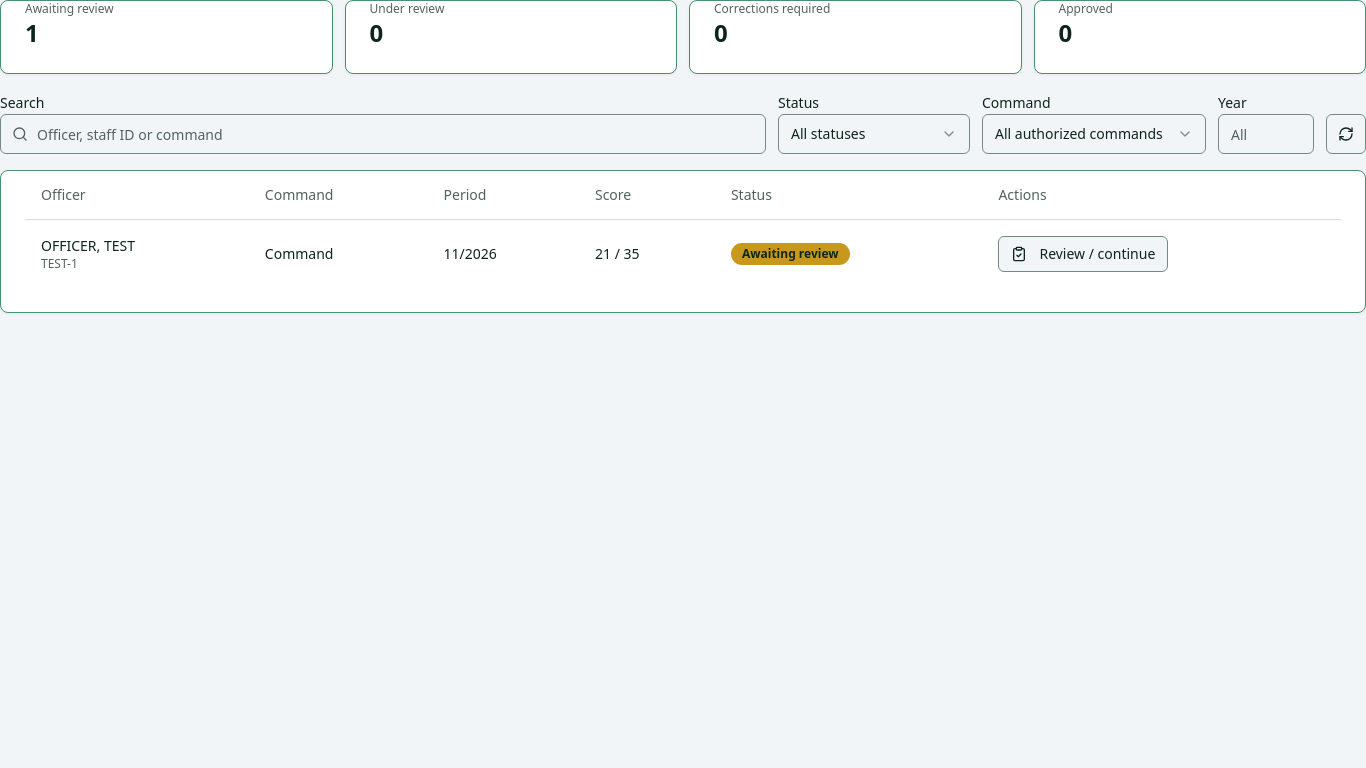
Test: appraisal queue decisions › confirms a review and reads the updated status back into the queue
What coordinates should you click on to do the following:
click the button "Review / continue"
I would click on:
 (1083, 254)
Its box is [998, 236, 1168, 272].
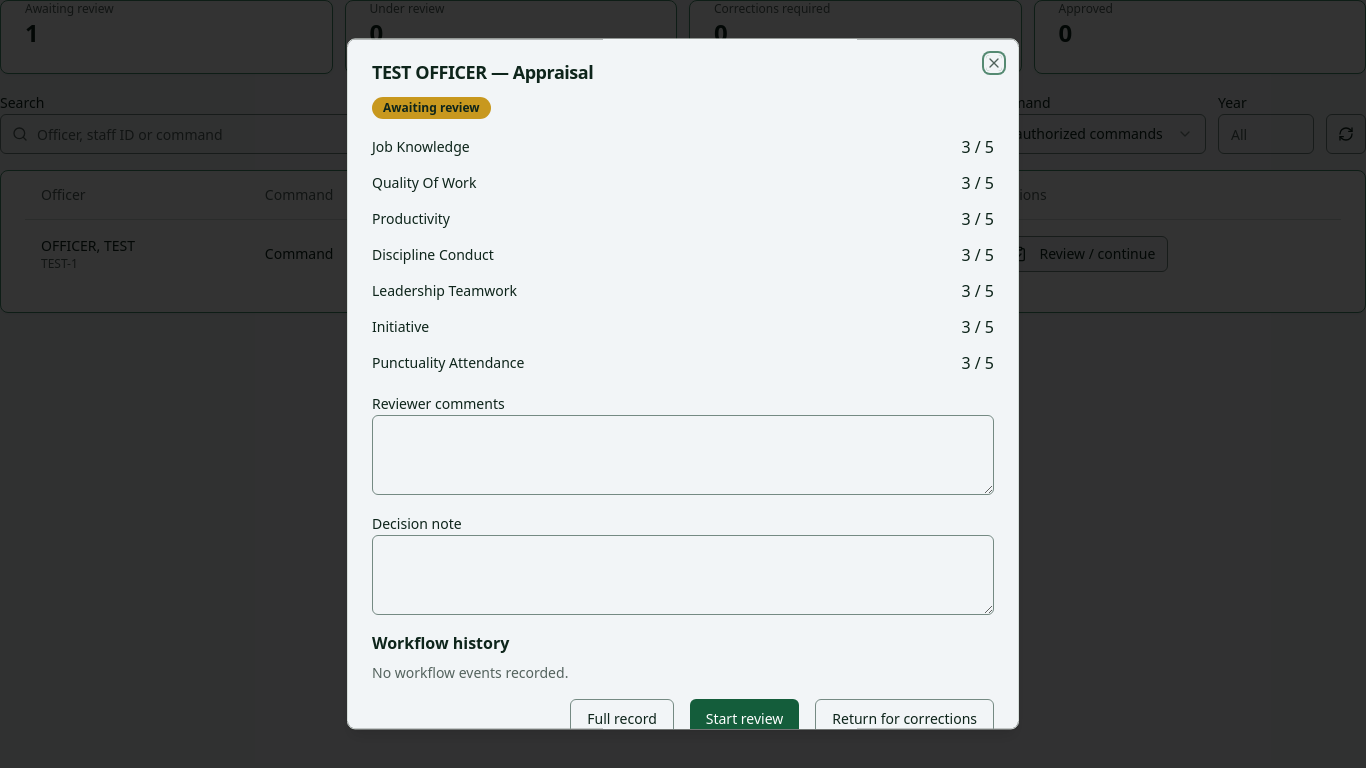
What coordinates should you click on to do the following:
click the button "Start review"
I would click on:
 (745, 719)
Its box is [690, 699, 799, 739].
(page scrolled)
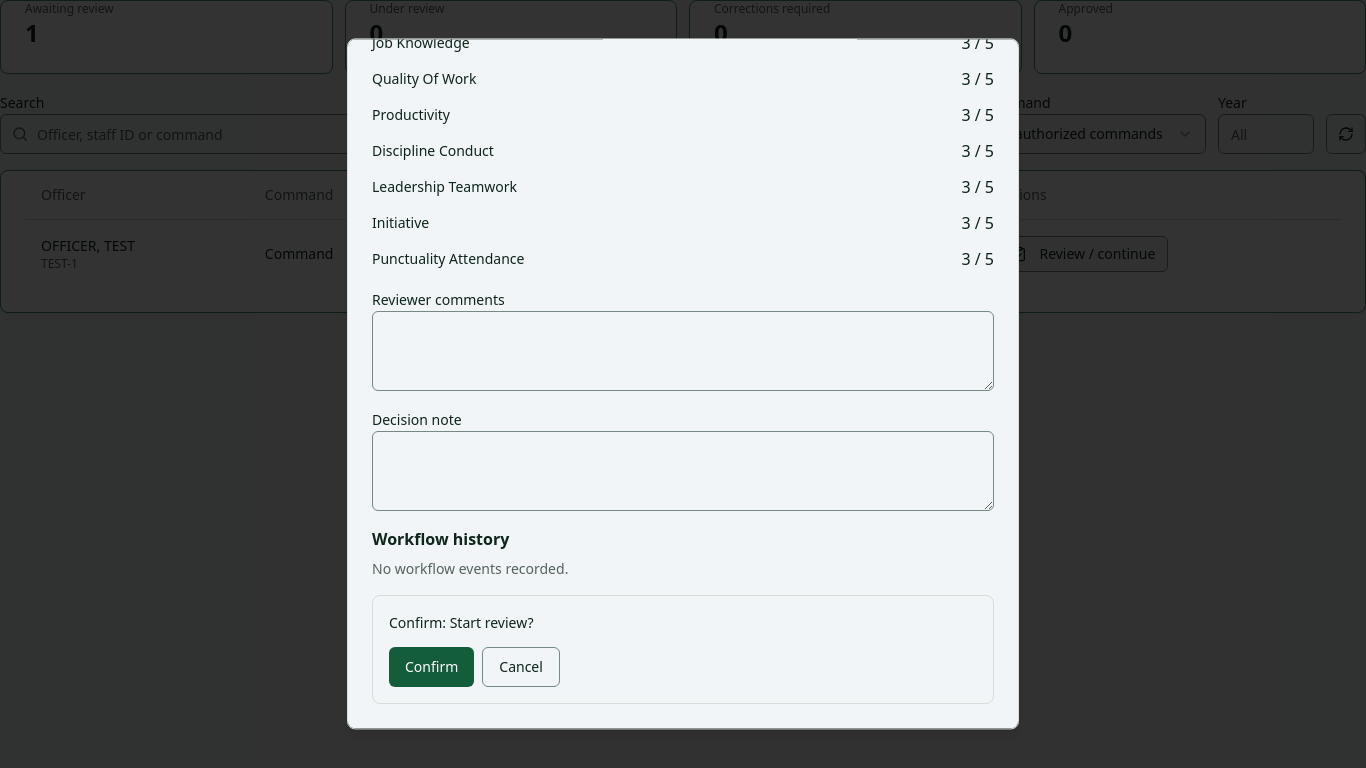
What coordinates should you click on to do the following:
click the button "Confirm"
I would click on:
 (432, 667)
Its box is [389, 647, 474, 687].
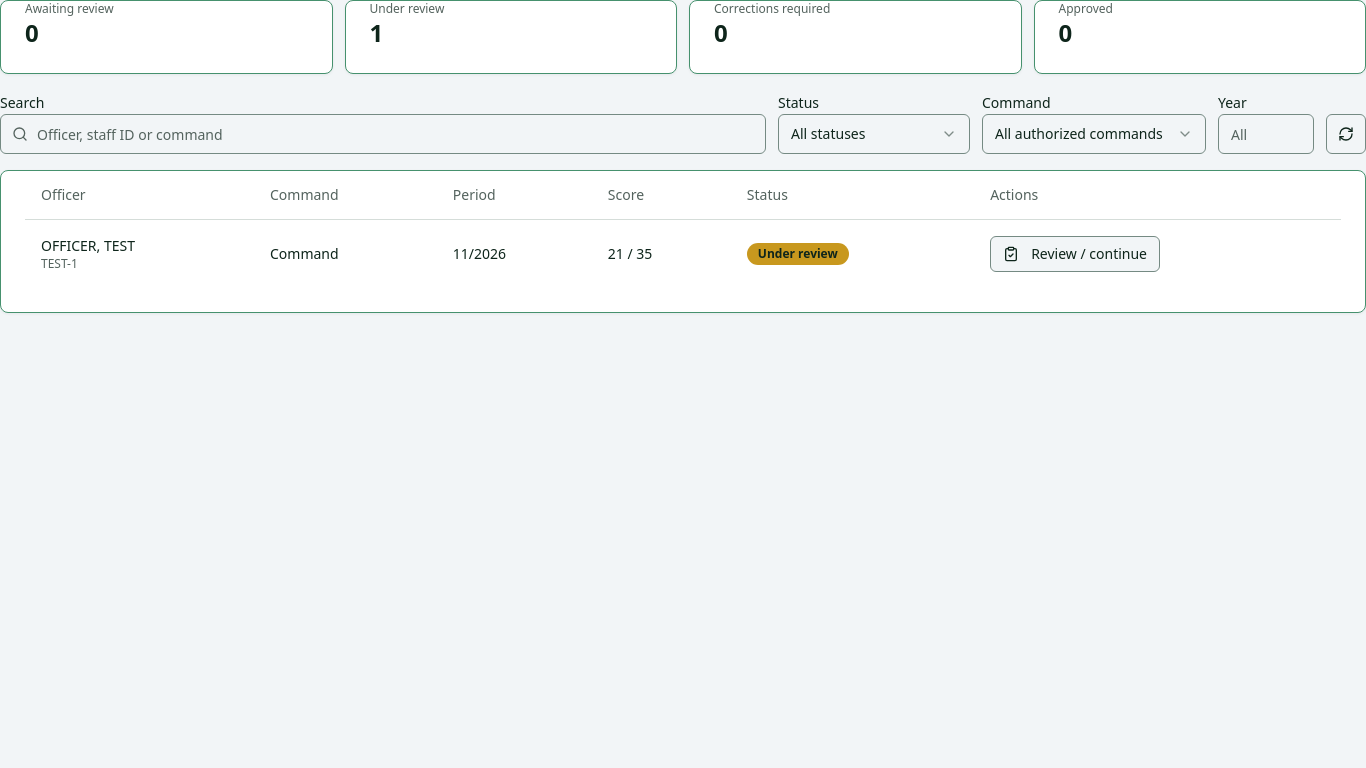
Result: the dialog is gone
Result: the text "Under review" in the row of "TEST-1" is shown at [758, 244, 838, 262]
